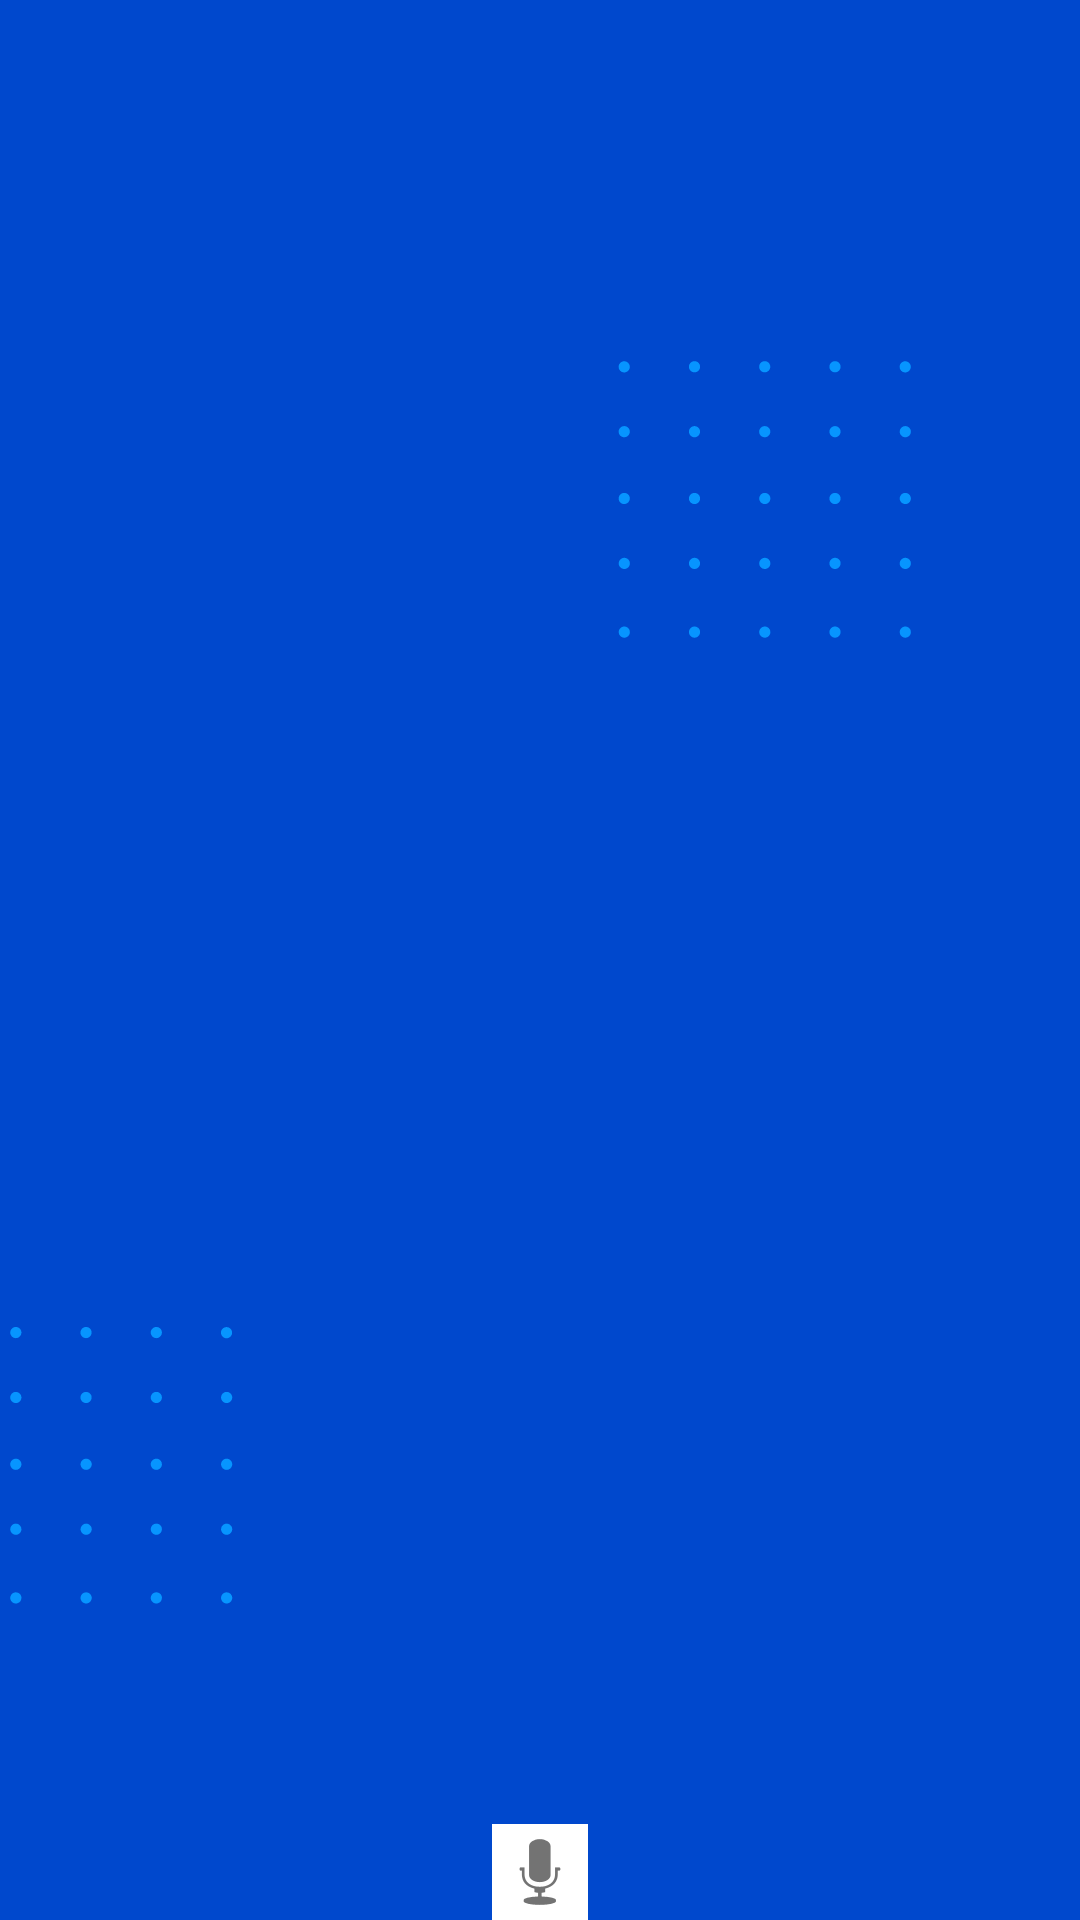

Where to tap for icons on this 1080px x 1920px app screen, as point (x, y):
speak now: point (540, 1872)
